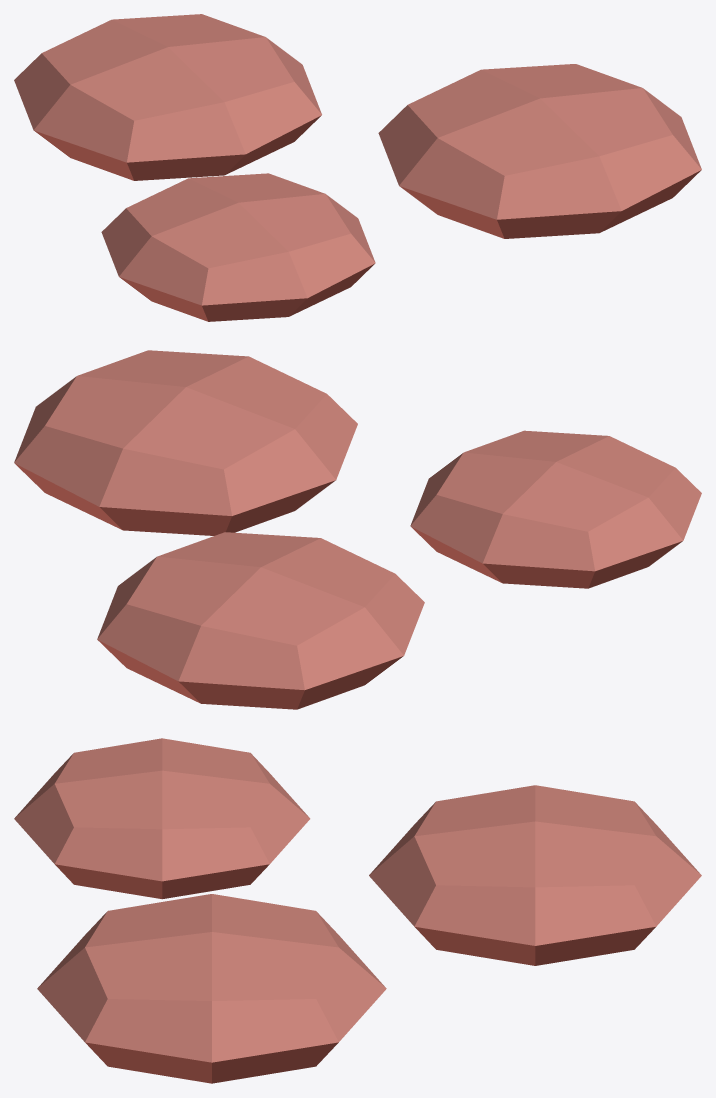
File: Meat.fbx
3 views of the same model, one above another, from view 1: azimuth 30°, elevation 25°; view 2: azimuth 150°, elevation 25°; view 3: azimuth 270°, elevation 25° (orthographic). The views are drawn at different scales.
Visible parts, largest first — view 1: Meat; view 2: Meat; view 3: Meat.
Part boxes in pixels (x1,y1,x2,y2): Meat: (14, 14, 701, 321); Meat: (14, 350, 701, 709); Meat: (14, 738, 701, 1083).
Bounding box in the file's own units: 37.19 × 6.43 × 35.27.
